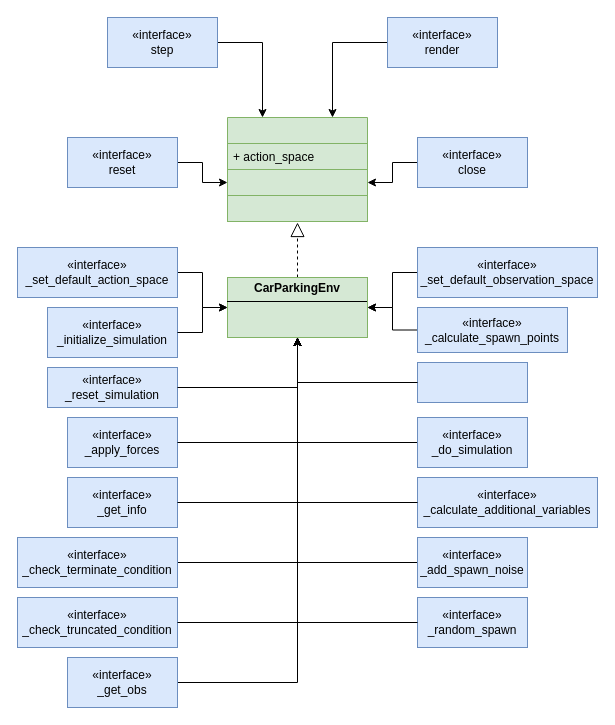
Image size: 615x725. Some labels were removed from this diagram. The shapes that lost their labels are listed below. From the top down, each one's box as (x1, y1, x2, y2) in pixels, then its label:
(226, 116, 368, 222): Gymnasium.Env
(226, 168, 368, 196): + observation_space
(226, 194, 368, 222): + metadata
(416, 362, 528, 402): «interface» _prep_overlay
